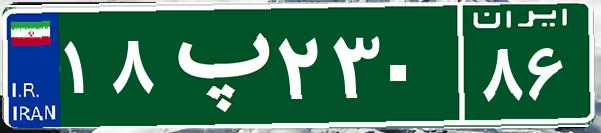0: (385, 28, 445, 110)
1: (57, 26, 110, 107)
2: (273, 28, 330, 110)
3: (330, 28, 385, 110)
6: (525, 38, 570, 115)
8: (475, 38, 525, 113), (110, 28, 158, 105)
پ: (158, 15, 273, 115)
